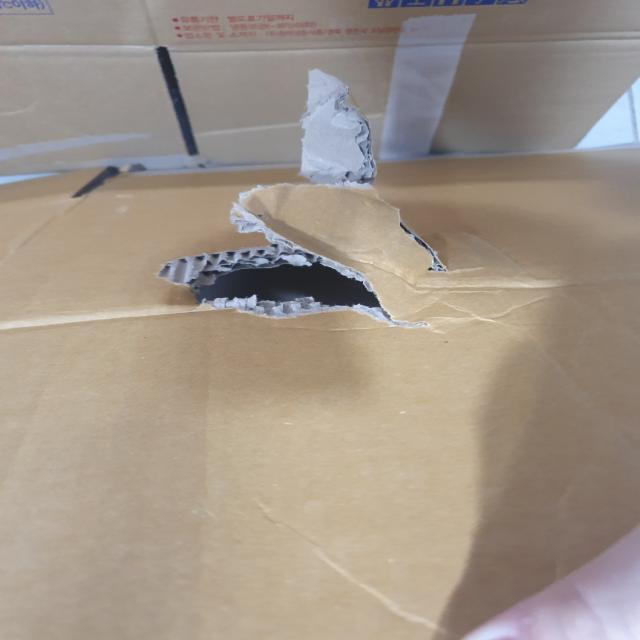hole: (171, 211, 453, 325)
